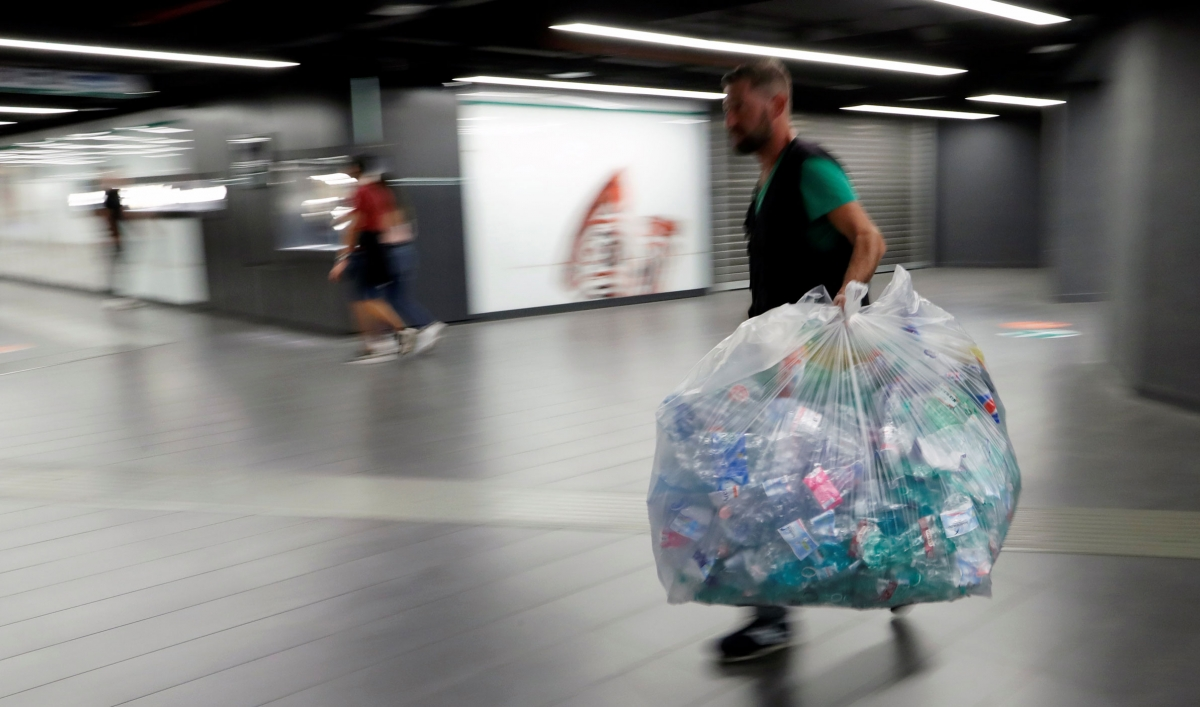plastic_bagwdw: (565, 230, 1095, 650)
